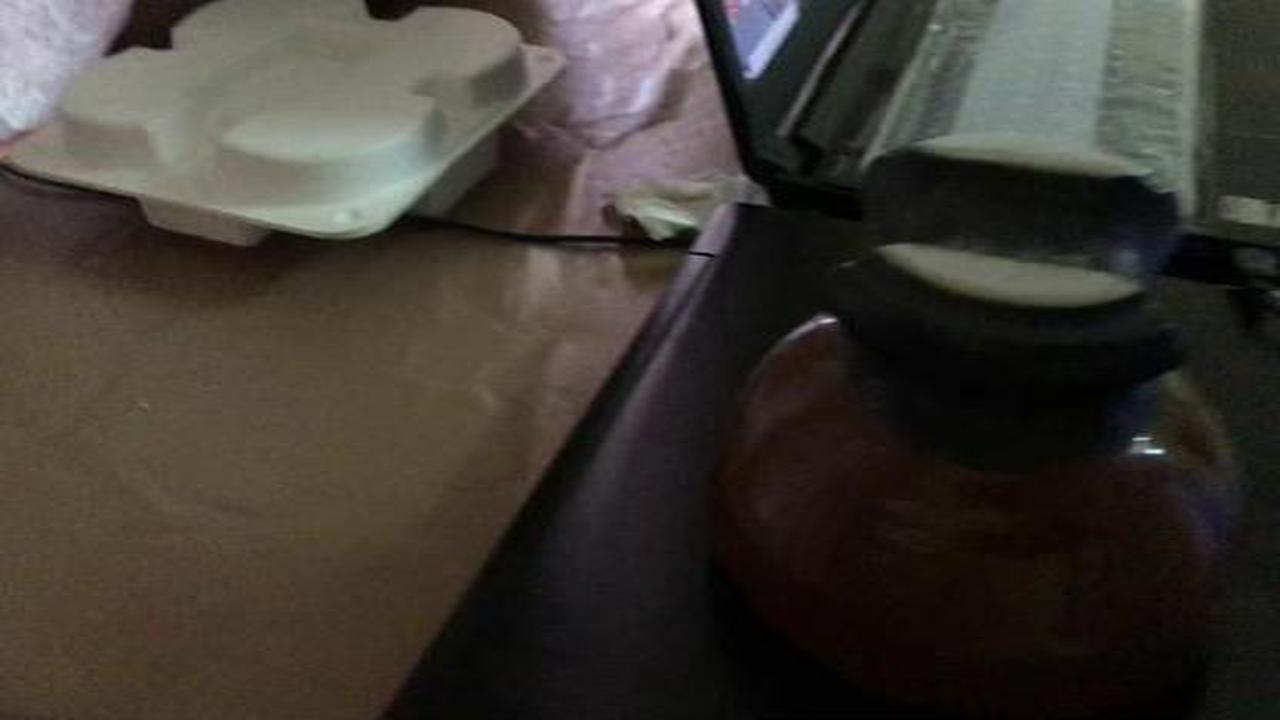insulator_pin: (696, 115, 1265, 682)
